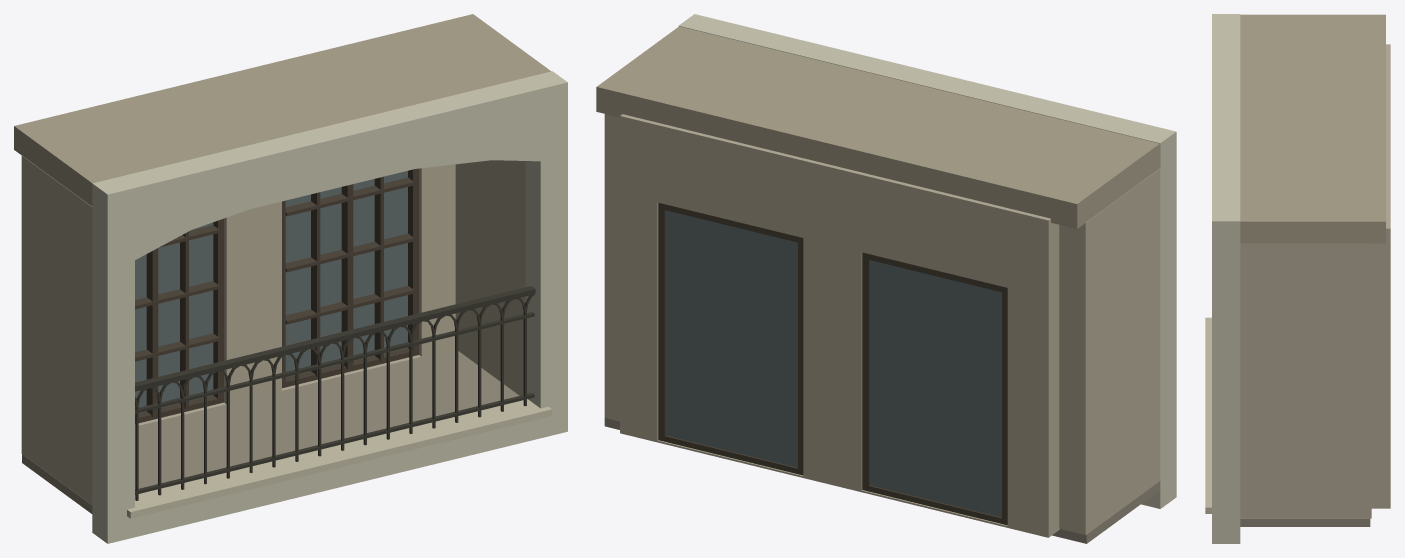
The model's file is changning-fushi-garden-faceted-loggia-lod.glb.
3 renders of one model, left to right at view 1: azimuth 30°, elevation 25°; view 2: azimuth 150°, elevation 25°; view 3: azimuth 270°, elevation 25°, orthographic. The views are drawn at different scales.
Parts seen in each view (by area): view 1: 福世花园园侧折线浅拱敞廊与铁栏; view 2: 福世花园园侧折线浅拱敞廊与铁栏; view 3: 福世花园园侧折线浅拱敞廊与铁栏.
Boxes of the visible parts, <box> form: 福世花园园侧折线浅拱敞廊与铁栏: <box>14,14,567,543</box>; 福世花园园侧折线浅拱敞廊与铁栏: <box>596,14,1176,543</box>; 福世花园园侧折线浅拱敞廊与铁栏: <box>1205,14,1390,543</box>.
Size of the model in its own units: 4.06 by 2.94 by 1.53.
